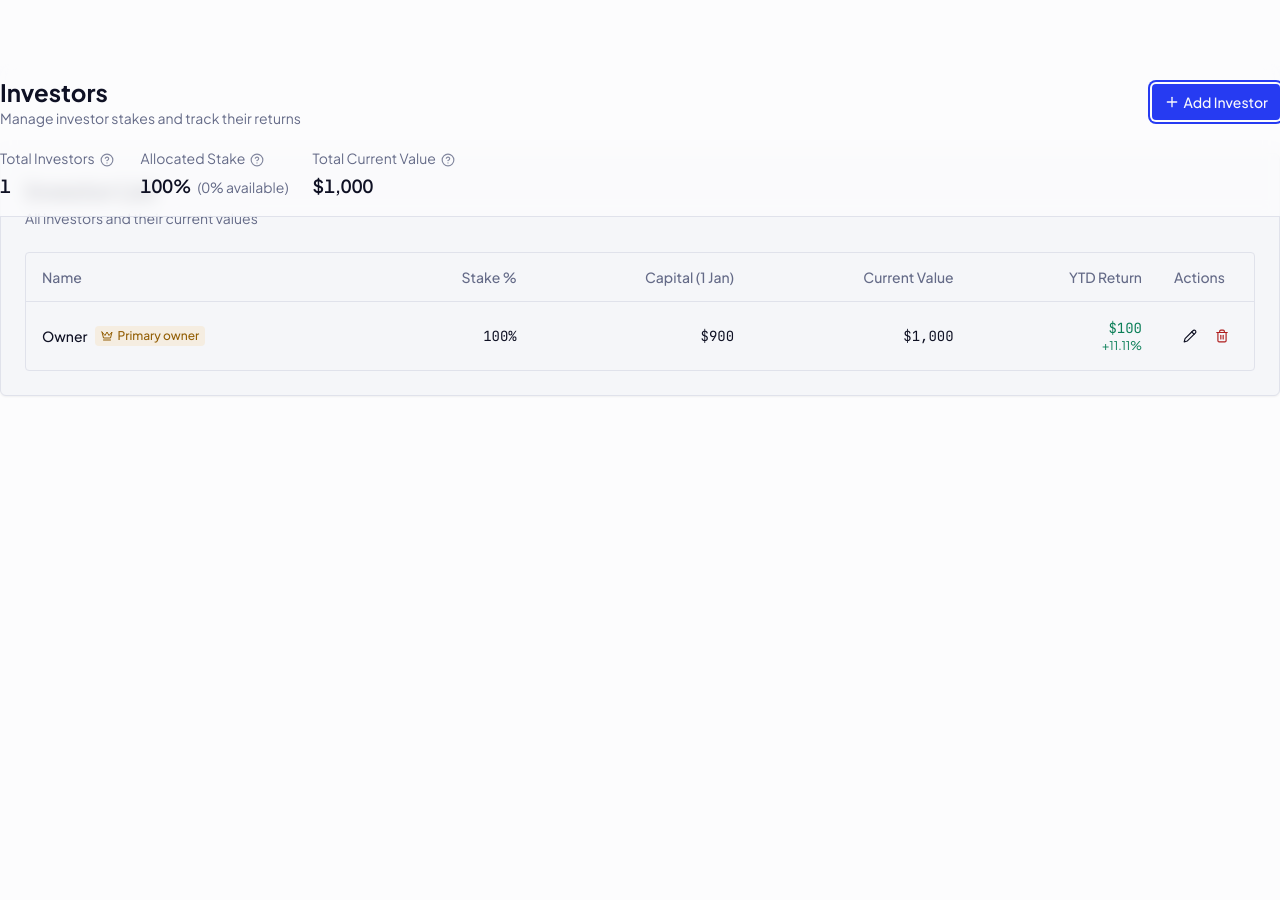
it: explains full allocation before submission and lets the user return to rebalance
The width and height of the screenshot is (1280, 900).
Step 1. Click the button "Add Investor" → (1216, 102), box [1152,84,1279,120]
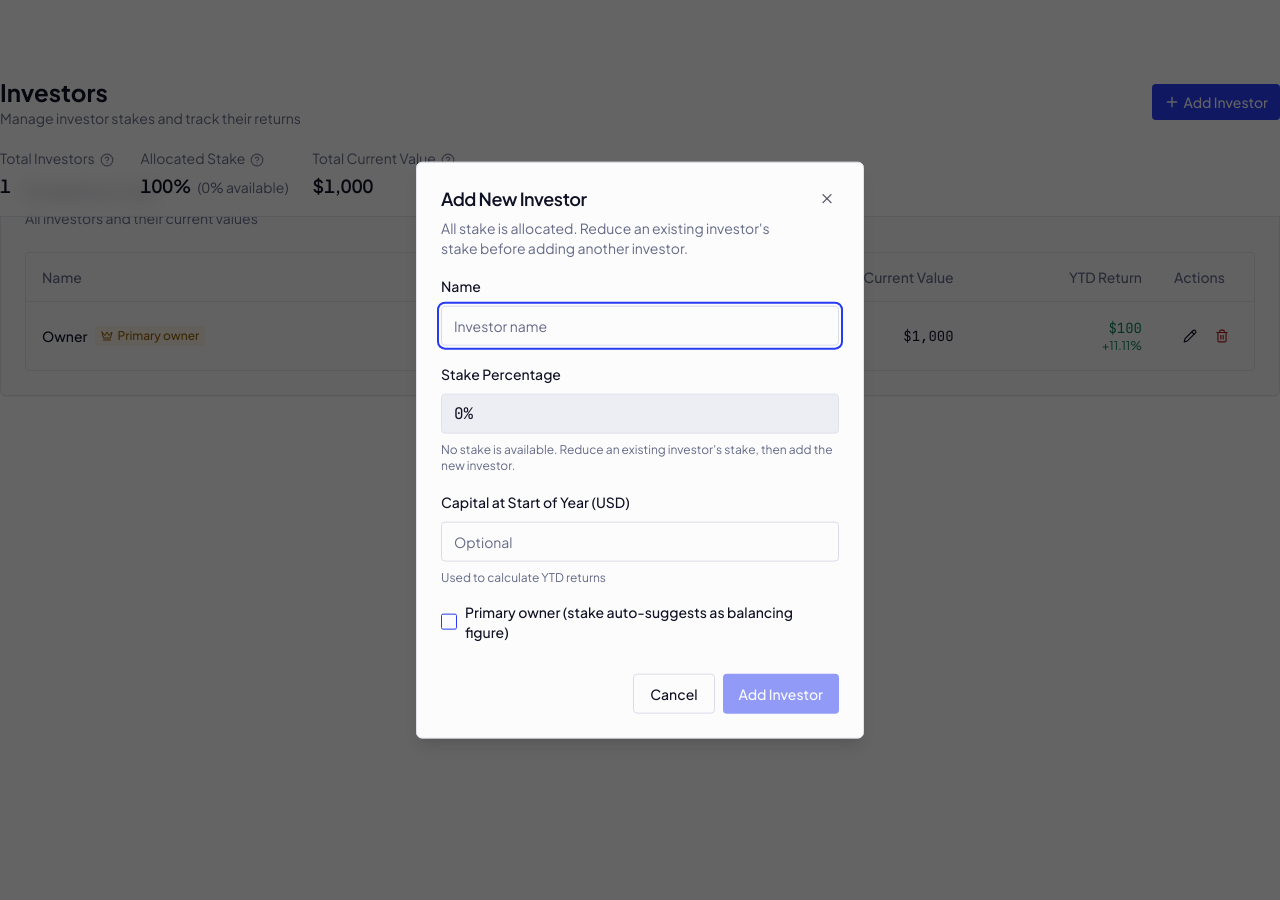
Step 2. Type "New investor" into the field labelled "Name" → (640, 325), box [441,305,839,345]
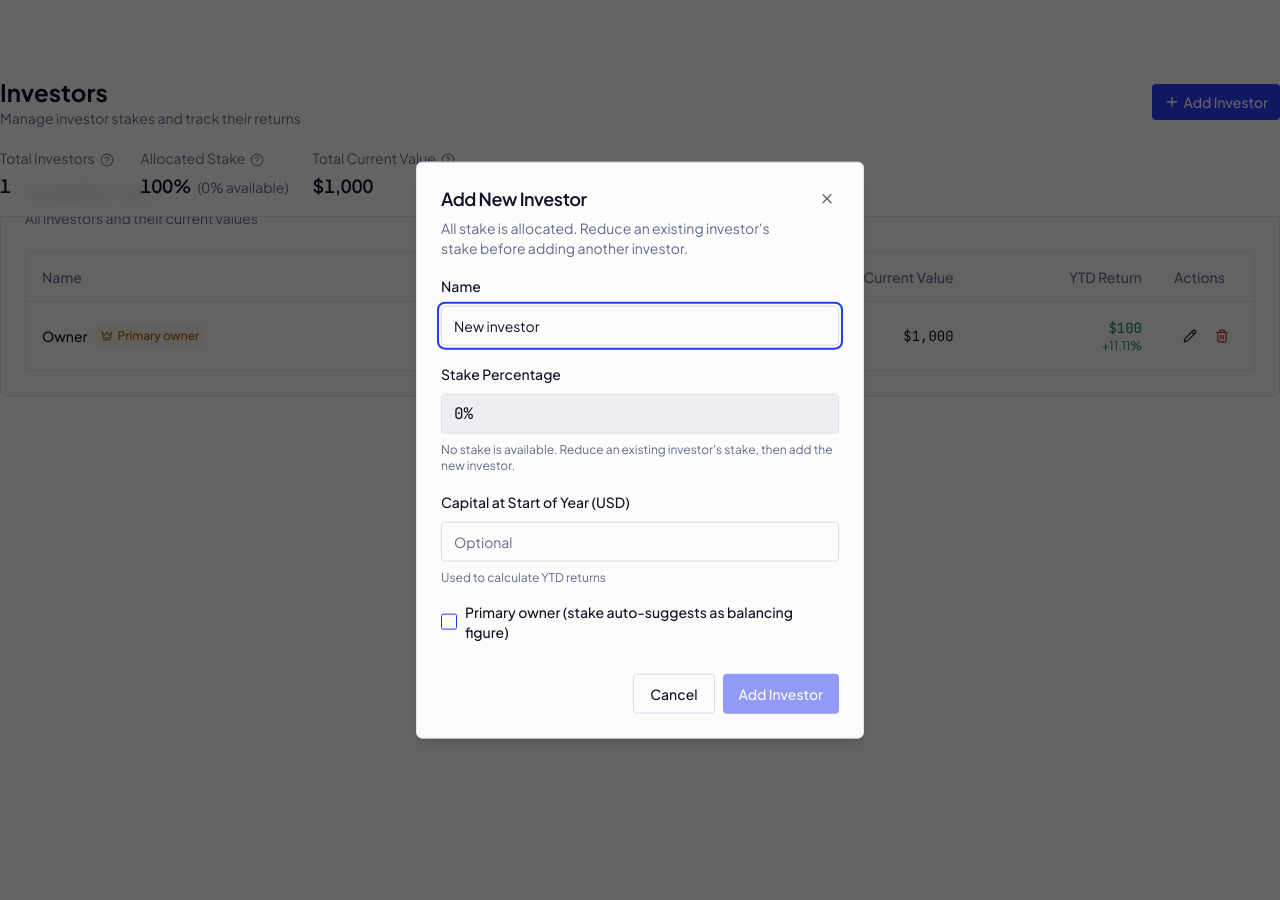
Now the button "Add Investor" is disabled, box [723,673,839,713]
Now the message shows "No stake is available. Reduce an existing investor's stake", box [441,441,832,472]
Step 3. Click the button "Cancel" → (674, 693), box [633,673,715,713]
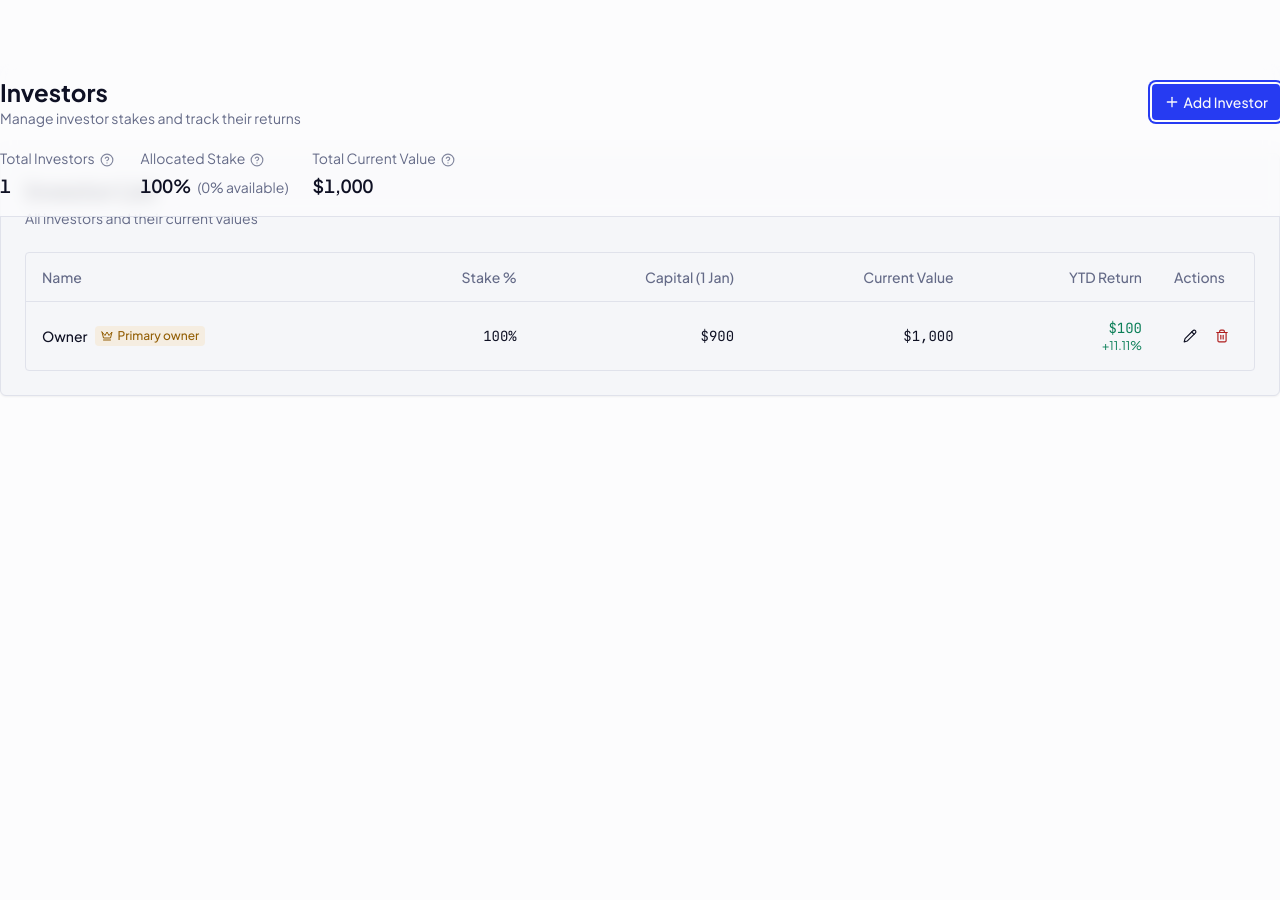
Now the dialog is gone
